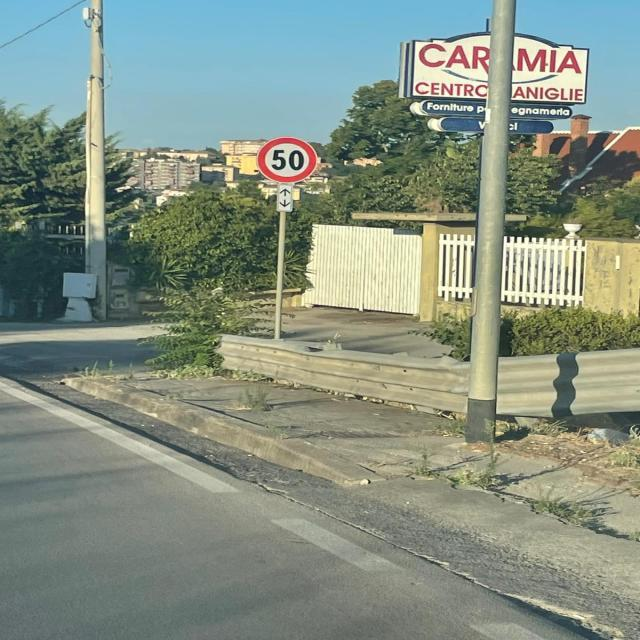forb_speed_over_50: (257, 136, 318, 183)
